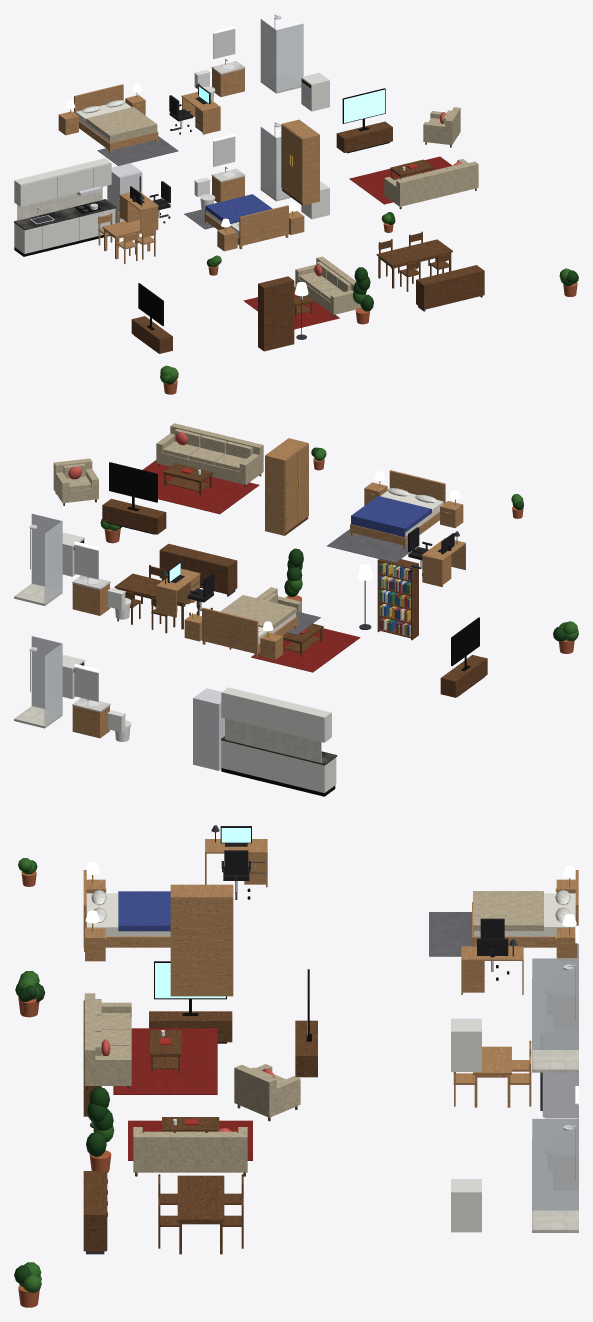
The model's file is i_med_villa.gltf.
3 views of the same model, one above another, from view 1: azimuth 30°, elevation 25°; view 2: azimuth 150°, elevation 25°; view 3: azimuth 270°, elevation 25° (orthographic). The views are drawn at different scales.
Parts seen in each view (by area): view 1: I_med_villa; view 2: I_med_villa; view 3: I_med_villa.
Boxes of the visible parts, x1,y1,x2,y2 form: I_med_villa: (14,14,578,394); I_med_villa: (14,423,578,796); I_med_villa: (14,825,578,1307).
Size of the model in its own units: 13.8 by 5.5 by 10.85.
Materials: 33 (12 with a texture image).
